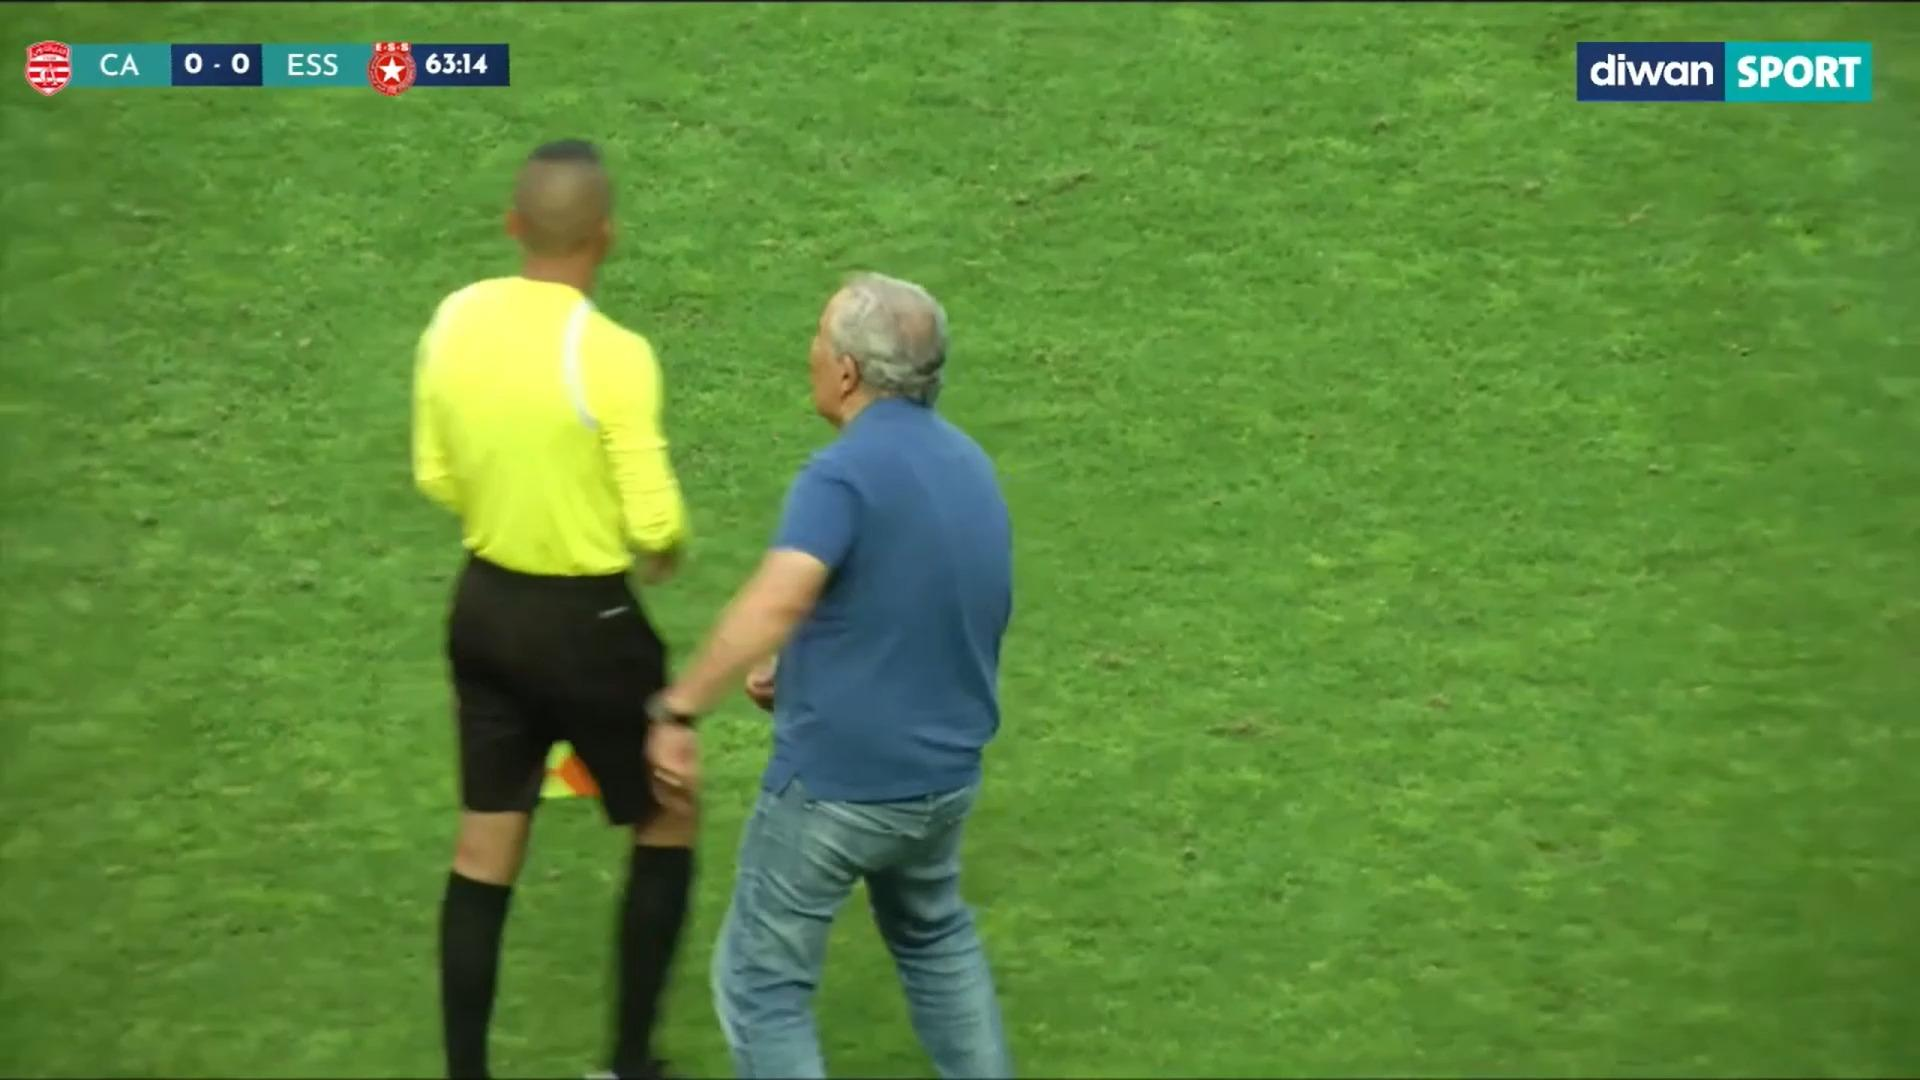referee: (404, 113, 705, 1080)
